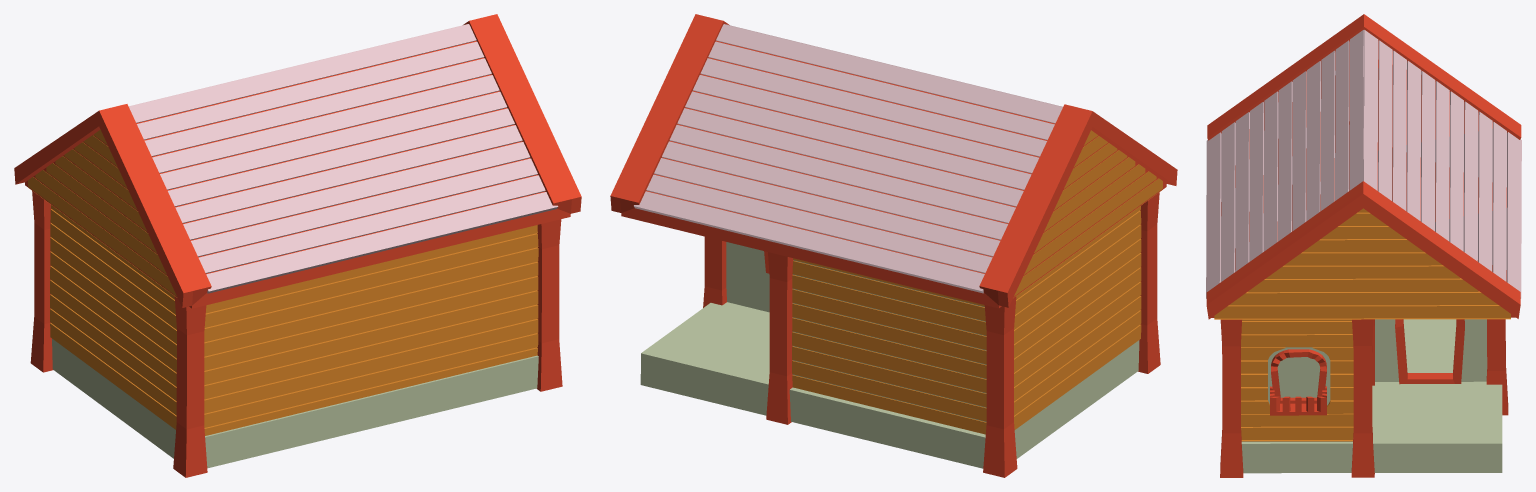
Rendered from gai房子.fbx.
3 views of the same model, side by side, from view 1: azimuth 30°, elevation 25°; view 2: azimuth 150°, elevation 25°; view 3: azimuth 270°, elevation 25° (orthographic). The views are drawn at different scales.
Visible parts, largest first — view 1: 平面.010, 平面.007, 平面.004, 平面.006, 平面.001, 平面.012, 立方体.003, 立方体.002, 立方体.004; view 2: 平面.010, 平面.004, 平面.001, 平面.005, 平面.006, 平面.012, 立方体.004, 立方体.006, 立方体.003, 立方体.005, 平面.003; view 3: 平面.010, 平面.001, 平面.011, 平面.004, 平面.008, 平面.003, 立方体.005, 立方体.002, 立方体.008, 立方体.006, 平面, 立方体.014.
Part boxes in pixels (left/top/right/bottom): 平面.010: left=128, top=24, right=558, bottom=293; 平面.007: left=204, top=225, right=538, bottom=435; 平面.004: left=14, top=14, right=581, bottom=308; 平面.006: left=50, top=205, right=176, bottom=429; 平面.001: left=52, top=338, right=538, bottom=468; 平面.012: left=28, top=130, right=176, bottom=297; 立方体.003: left=173, top=296, right=207, bottom=477; 立方体.002: left=537, top=219, right=562, bottom=391; 立方体.004: left=30, top=177, right=52, bottom=372; 平面.010: left=634, top=24, right=1062, bottom=293; 平面.004: left=610, top=14, right=1177, bottom=308; 平面.001: left=640, top=242, right=1139, bottom=468; 平面.005: left=792, top=258, right=986, bottom=434; 平面.006: left=1014, top=206, right=1141, bottom=429; 平面.012: left=1014, top=130, right=1162, bottom=296; 立方体.004: left=983, top=296, right=1017, bottom=477; 立方体.006: left=766, top=252, right=793, bottom=424; 立方体.003: left=1138, top=179, right=1160, bottom=373; 立方体.005: left=703, top=236, right=726, bottom=307; 平面.003: left=642, top=303, right=984, bottom=436; 平面.010: left=1206, top=30, right=1521, bottom=298; 平面.001: left=1241, top=319, right=1502, bottom=473; 平面.011: left=1214, top=208, right=1510, bottom=319; 平面.004: left=1206, top=14, right=1521, bottom=319; 平面.008: left=1241, top=319, right=1353, bottom=441; 平面.003: left=1242, top=319, right=1502, bottom=443; 立方体.005: left=1351, top=319, right=1374, bottom=477; 立方体.002: left=1220, top=319, right=1243, bottom=477; 立方体.008: left=1395, top=319, right=1464, bottom=384; 立方体.006: left=1486, top=319, right=1508, bottom=415; 平面: left=1270, top=386, right=1326, bottom=415; 立方体.014: left=1271, top=349, right=1326, bottom=403.
Size of the model in its own units: 198 by 149 by 147.
